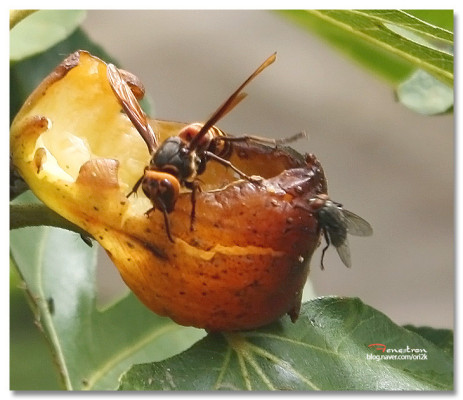asian_giant_hornet: (105, 56, 276, 223)
